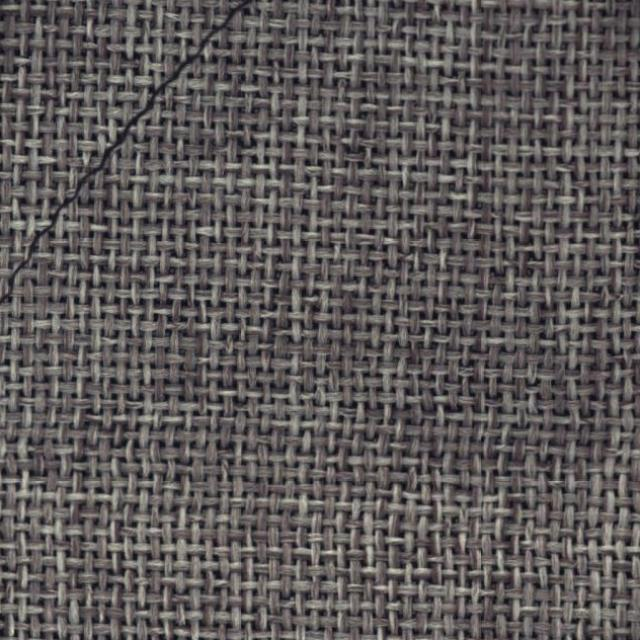Thread: (0, 0, 251, 306)
